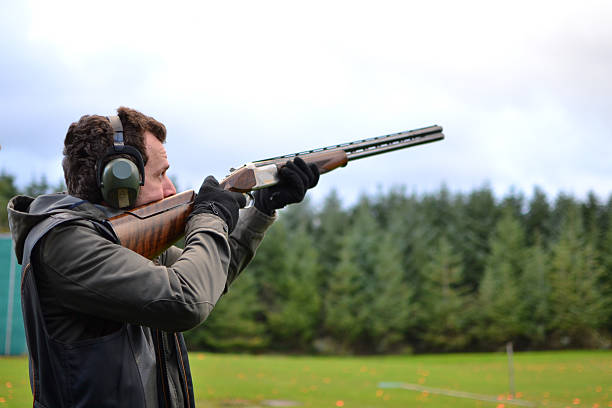gun: (100, 121, 449, 261)
